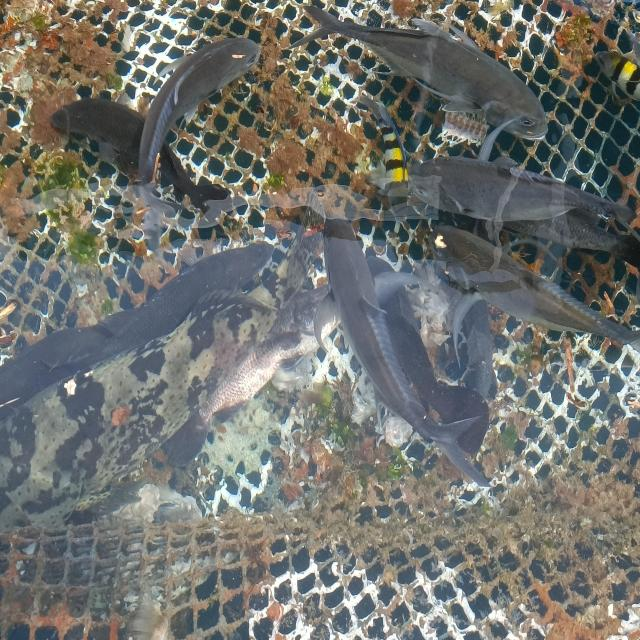ikan: (306, 193, 492, 482), (314, 5, 555, 143), (411, 151, 604, 242), (139, 22, 272, 145), (44, 79, 133, 173)
